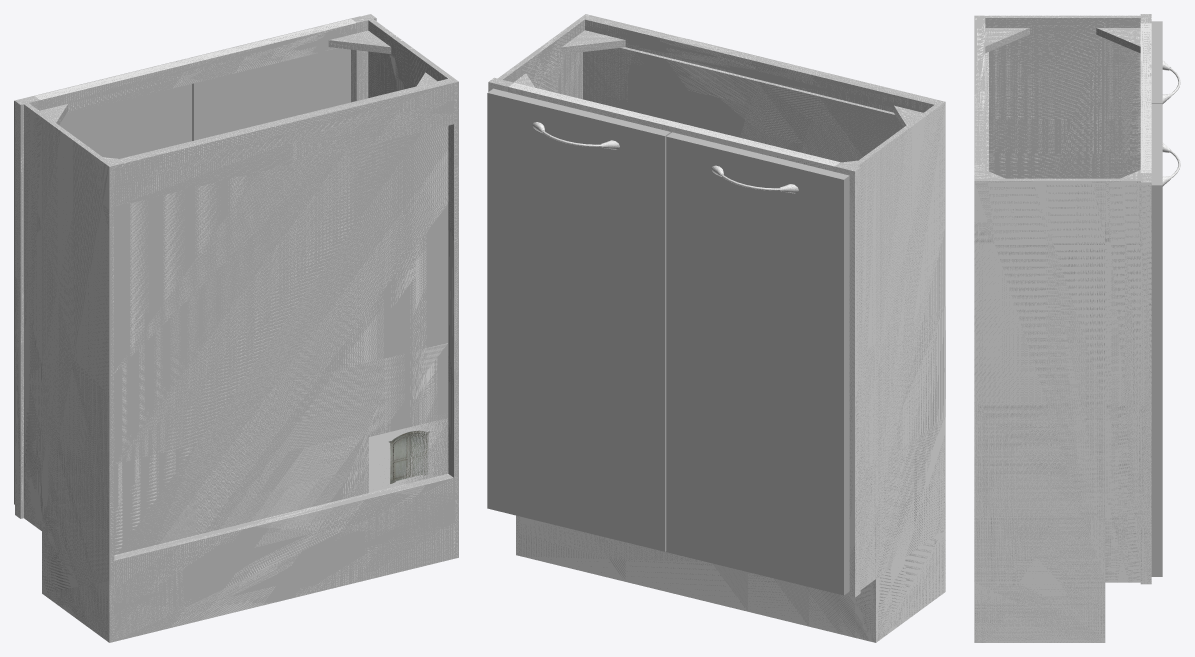
The picture shows the model from 3 angles, left to right: view 1: azimuth 30°, elevation 25°; view 2: azimuth 150°, elevation 25°; view 3: azimuth 270°, elevation 25°; orthographic projection. The views are drawn at different scales.
Parts seen in each view (by area): view 1: mesh12_mesh12-geometry, mesh16_mesh16-geometry, mesh14_mesh14-geometry, mesh11_mesh11-geometry, mesh19_mesh19-geometry, mesh2_mesh2-geometry, mesh15_mesh15-geometry, mesh23_mesh23-geometry, mesh4_mesh4-geometry, mesh1_mesh1-geometry, mesh17_mesh17-geometry, mesh27_mesh27-geometry (+2 smaller); view 2: mesh23_mesh23-geometry, mesh19_mesh19-geometry, mesh16_mesh16-geometry, mesh12_mesh12-geometry, mesh6_mesh6-geometry, mesh11_mesh11-geometry, mesh15_mesh15-geometry, mesh1_mesh1-geometry, mesh17_mesh17-geometry, mesh2_mesh2-geometry, mesh4_mesh4-geometry, mesh10_mesh10-geometry; view 3: mesh4_mesh4-geometry, mesh16_mesh16-geometry, mesh3_mesh3-geometry, mesh5_mesh5-geometry, mesh19_mesh19-geometry, mesh15_mesh15-geometry, mesh1_mesh1-geometry, mesh11_mesh11-geometry, mesh2_mesh2-geometry, mesh23_mesh23-geometry, mesh9_mesh9-geometry, mesh13_mesh13-geometry (+1 smaller).
Part boxes in pixels (x1,y1,x2,y2): mesh12_mesh12-geometry: (114,126,448,554); mesh16_mesh16-geometry: (42,116,114,580); mesh14_mesh14-geometry: (114,474,453,641); mesh11_mesh11-geometry: (109,79,453,206); mesh19_mesh19-geometry: (188,16,360,140); mesh2_mesh2-geometry: (35,19,356,114); mesh15_mesh15-geometry: (24,103,46,530); mesh23_mesh23-geometry: (14,58,192,504); mesh4_mesh4-geometry: (386,32,458,496); mesh1_mesh1-geometry: (15,14,376,518); mesh17_mesh17-geometry: (42,532,114,642); mesh27_mesh27-geometry: (369,418,448,492); mesh23_mesh23-geometry: (666,132,849,595); mesh19_mesh19-geometry: (487,88,670,551); mesh16_mesh16-geometry: (871,100,945,578); mesh12_mesh12-geometry: (583,47,903,162); mesh6_mesh6-geometry: (521,517,870,641); mesh11_mesh11-geometry: (585,15,939,112); mesh15_mesh15-geometry: (852,151,875,589); mesh1_mesh1-geometry: (488,77,860,597); mesh17_mesh17-geometry: (871,528,945,642); mesh2_mesh2-geometry: (508,82,839,551); mesh4_mesh4-geometry: (516,14,590,99); mesh10_mesh10-geometry: (561,30,625,54); mesh4_mesh4-geometry: (974,178,1105,582); mesh16_mesh16-geometry: (974,15,1105,178); mesh3_mesh3-geometry: (1105,178,1140,582); mesh5_mesh5-geometry: (974,582,1105,642); mesh19_mesh19-geometry: (1151,103,1162,576); mesh15_mesh15-geometry: (1105,15,1140,178); mesh1_mesh1-geometry: (1140,14,1151,584); mesh11_mesh11-geometry: (974,18,985,178); mesh2_mesh2-geometry: (1140,23,1151,173); mesh23_mesh23-geometry: (1151,21,1162,103); mesh9_mesh9-geometry: (1096,28,1140,53); mesh13_mesh13-geometry: (985,28,1029,53).
Bounding box in the file's own units: 0.5872 × 0.7503 × 0.3038.
